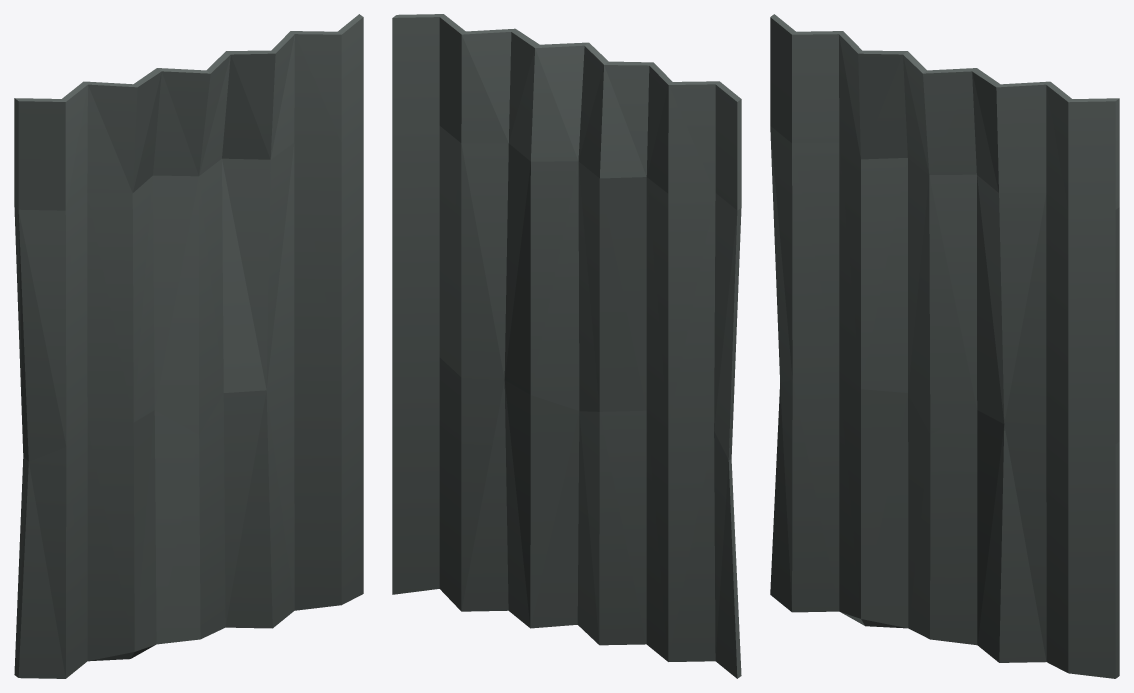
Rendered from Prop_Metal_Sheet_02.obj.
The picture shows the model from 3 angles, left to right: view 1: azimuth 30°, elevation 25°; view 2: azimuth 150°, elevation 25°; view 3: azimuth 330°, elevation 25°; orthographic projection.
Visible parts, largest first — view 1: Prop_Metal_Sheet_02; view 2: Prop_Metal_Sheet_02; view 3: Prop_Metal_Sheet_02.
Boxes of the visible parts, box(x1,y1,x2,y2) form: Prop_Metal_Sheet_02: box(14, 14, 363, 678); Prop_Metal_Sheet_02: box(392, 14, 741, 678); Prop_Metal_Sheet_02: box(770, 14, 1119, 678).
Bounding box in the file's own units: 1.07 × 1.7 × 0.1357.
Materials: 1 (1 with a texture image).
